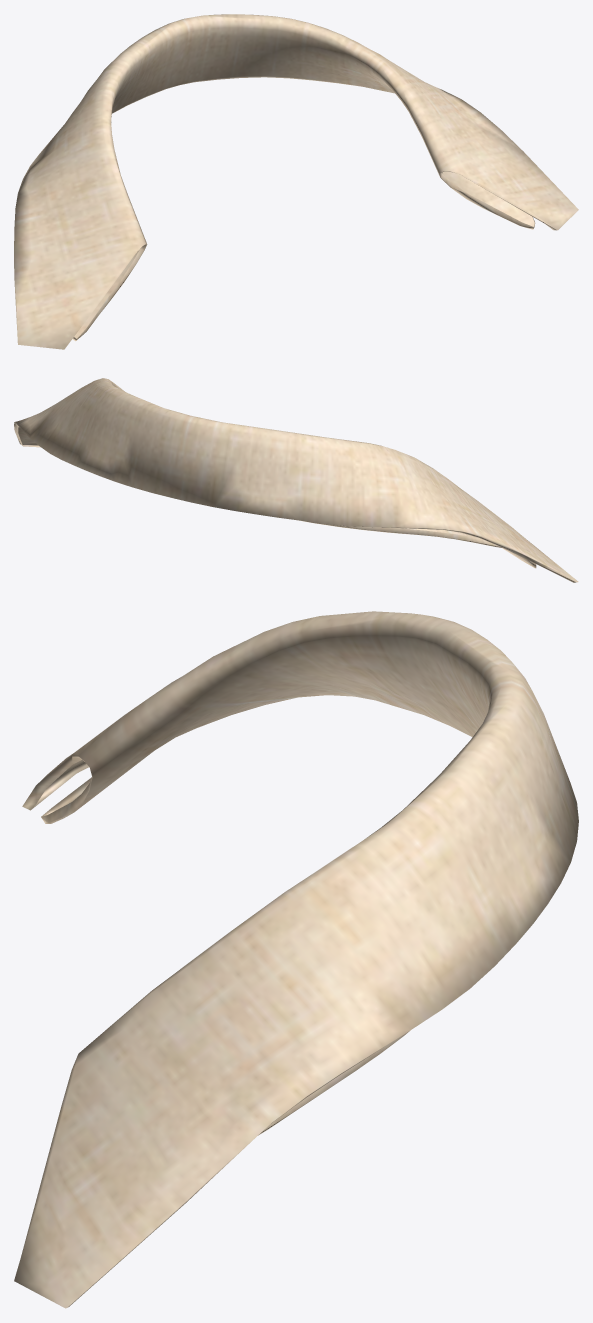
The model's file is Peak_Collar_new.glb.
3 renders of one model, top to bottom at view 1: azimuth 30°, elevation 25°; view 2: azimuth 150°, elevation 25°; view 3: azimuth 270°, elevation 25°, orthographic. The views are drawn at different scales.
Visible parts, largest first — view 1: Peak_Collor; view 2: Peak_Collor; view 3: Peak_Collor.
Boxes of the visible parts, x1,y1,x2,y2 form: Peak_Collor: (14, 14, 578, 349); Peak_Collor: (14, 378, 578, 582); Peak_Collor: (14, 611, 578, 1308).
Bounding box in the file's own units: 0.0375 × 0.0116 × 0.0165.
1 material, 1 textured.
